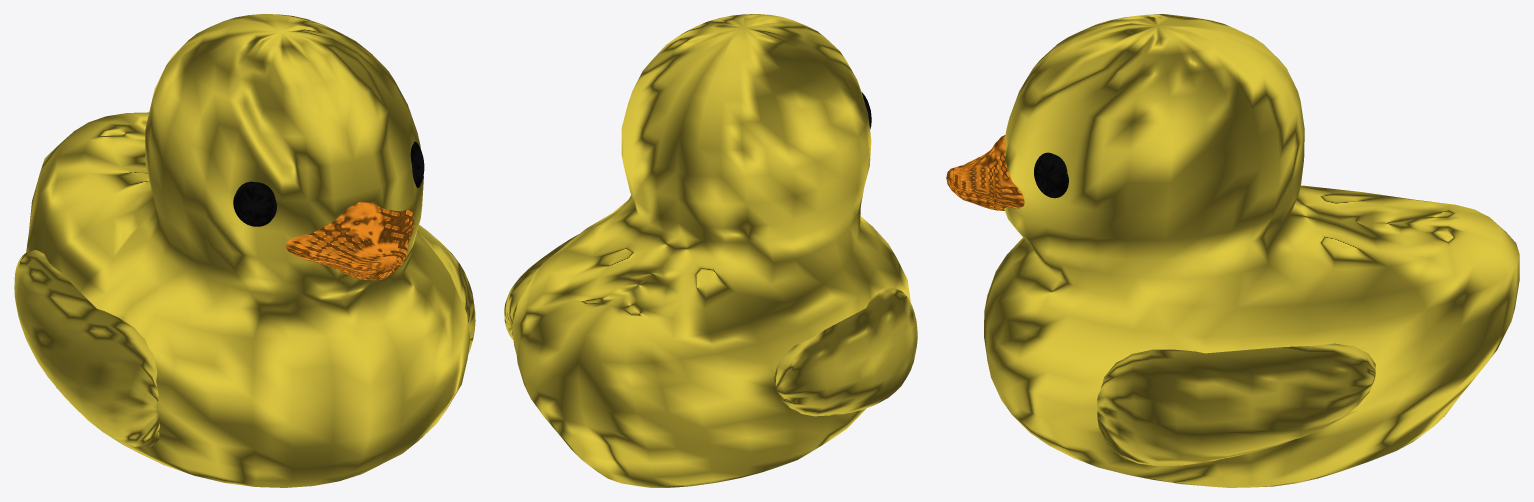
The model's file is duck.glb.
3 views of the same model, side by side, from view 1: azimuth 30°, elevation 25°; view 2: azimuth 150°, elevation 25°; view 3: azimuth 270°, elevation 25° (orthographic). The views are drawn at different scales.
Parts seen in each view (by area): view 1: Duck; view 2: Duck; view 3: Duck.
Part boxes in pixels (left/top/right/bottom): Duck: left=14, top=14, right=475, bottom=487; Duck: left=504, top=14, right=917, bottom=487; Duck: left=946, top=14, right=1519, bottom=487.
Size of the model in its own units: 34 by 37.11 by 44.23.
